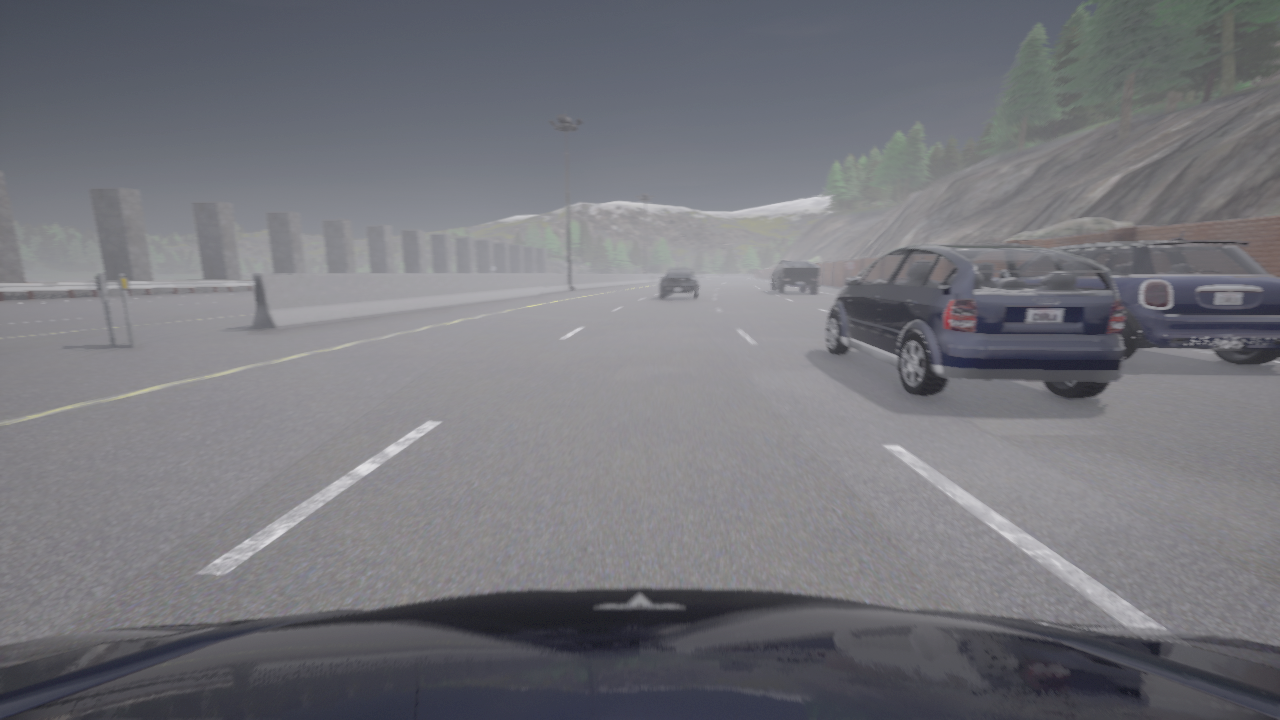cyclist: (0, 588, 1279, 719), (825, 244, 1125, 398), (1050, 231, 1279, 364), (772, 260, 820, 293), (660, 268, 703, 298)
